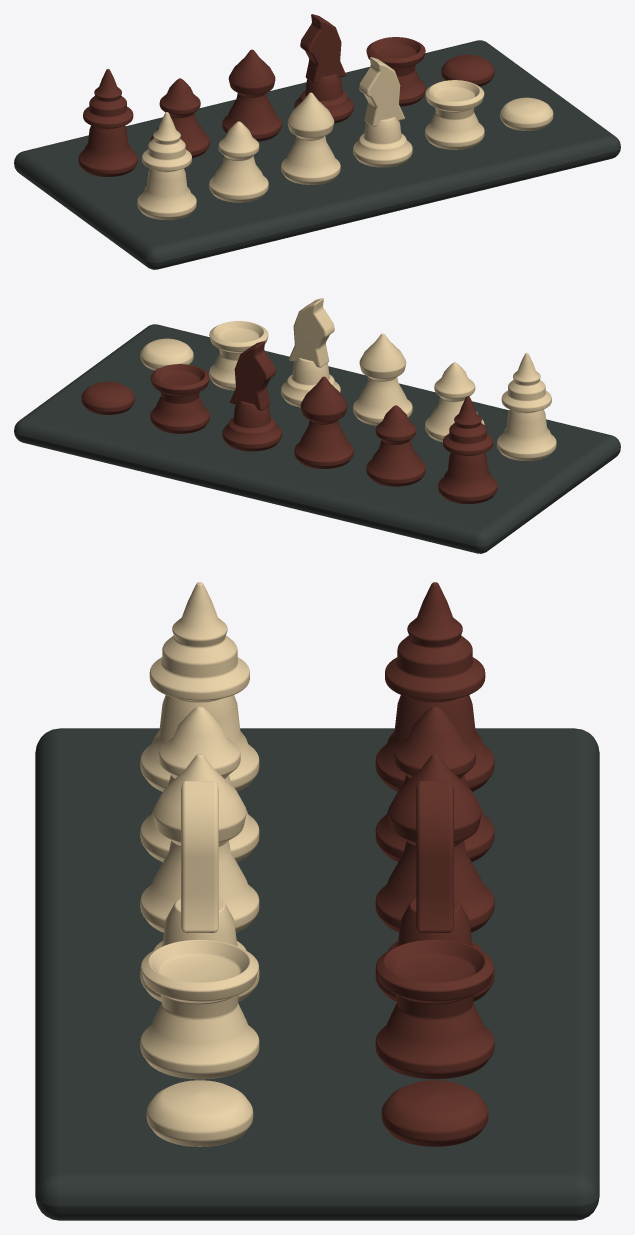
The model's file is collection.glb.
The picture shows the model from 3 angles, top to bottom: view 1: azimuth 30°, elevation 25°; view 2: azimuth 150°, elevation 25°; view 3: azimuth 270°, elevation 25°; orthographic projection. The views are drawn at different scales.
Visible parts, largest first — view 1: Display_plinth, dark_Khon_king, light_Khon_king, light_Koul_bishop, light_Touk_boat, dark_Koul_bishop, light_Neang_queen, dark_Touk_boat, light_Ses_horse, dark_Neang_queen, dark_Ses_horse_head, light_Ses_horse_head (+3 smaller); view 2: Display_plinth, light_Khon_king, dark_Khon_king, dark_Koul_bishop, dark_Touk_boat, light_Koul_bishop, dark_Neang_queen, light_Touk_boat, dark_Ses_horse, light_Neang_queen, light_Ses_horse_head, dark_Ses_horse_head (+3 smaller); view 3: Display_plinth, dark_Touk_boat, light_Touk_boat, dark_Khon_king, light_Khon_king, dark_Koul_bishop, light_Koul_bishop, dark_Trey_fish, light_Trey_fish, dark_Ses_horse_head, light_Ses_horse_head, dark_Neang_queen (+3 smaller).
Boxes of the visible parts, x1,y1,x2,y2 form: Display_plinth: [14, 40, 620, 269]; dark_Khon_king: [78, 69, 137, 176]; light_Khon_king: [137, 112, 196, 219]; light_Koul_bishop: [281, 92, 340, 184]; light_Touk_boat: [425, 80, 484, 149]; dark_Koul_bishop: [222, 49, 281, 141]; light_Neang_queen: [209, 121, 268, 202]; dark_Touk_boat: [366, 37, 425, 106]; light_Ses_horse: [353, 117, 412, 167]; dark_Neang_queen: [150, 78, 209, 158]; dark_Ses_horse_head: [300, 14, 345, 83]; light_Ses_horse_head: [359, 57, 404, 126]; Display_plinth: [14, 324, 620, 553]; light_Khon_king: [497, 353, 556, 460]; dark_Khon_king: [438, 396, 497, 503]; dark_Koul_bishop: [294, 376, 353, 468]; dark_Touk_boat: [150, 364, 209, 433]; light_Koul_bishop: [353, 333, 412, 425]; dark_Neang_queen: [366, 405, 425, 486]; light_Touk_boat: [209, 321, 268, 390]; dark_Ses_horse: [222, 401, 281, 451]; light_Neang_queen: [425, 362, 484, 442]; light_Ses_horse_head: [289, 298, 334, 367]; dark_Ses_horse_head: [230, 341, 275, 410]; Display_plinth: [35, 728, 599, 1220]; dark_Touk_boat: [375, 939, 494, 1079]; light_Touk_boat: [140, 939, 259, 1079]; dark_Khon_king: [375, 582, 494, 791]; light_Khon_king: [140, 582, 259, 791]; dark_Koul_bishop: [375, 754, 494, 932]; light_Koul_bishop: [140, 754, 259, 932]; dark_Trey_fish: [381, 1080, 488, 1146]; light_Trey_fish: [146, 1080, 253, 1146]; dark_Ses_horse_head: [416, 781, 453, 932]; light_Ses_horse_head: [181, 781, 218, 932]; dark_Neang_queen: [375, 706, 494, 861].
Bounding box in the file's own units: 0.35 × 0.0856 × 0.18.
